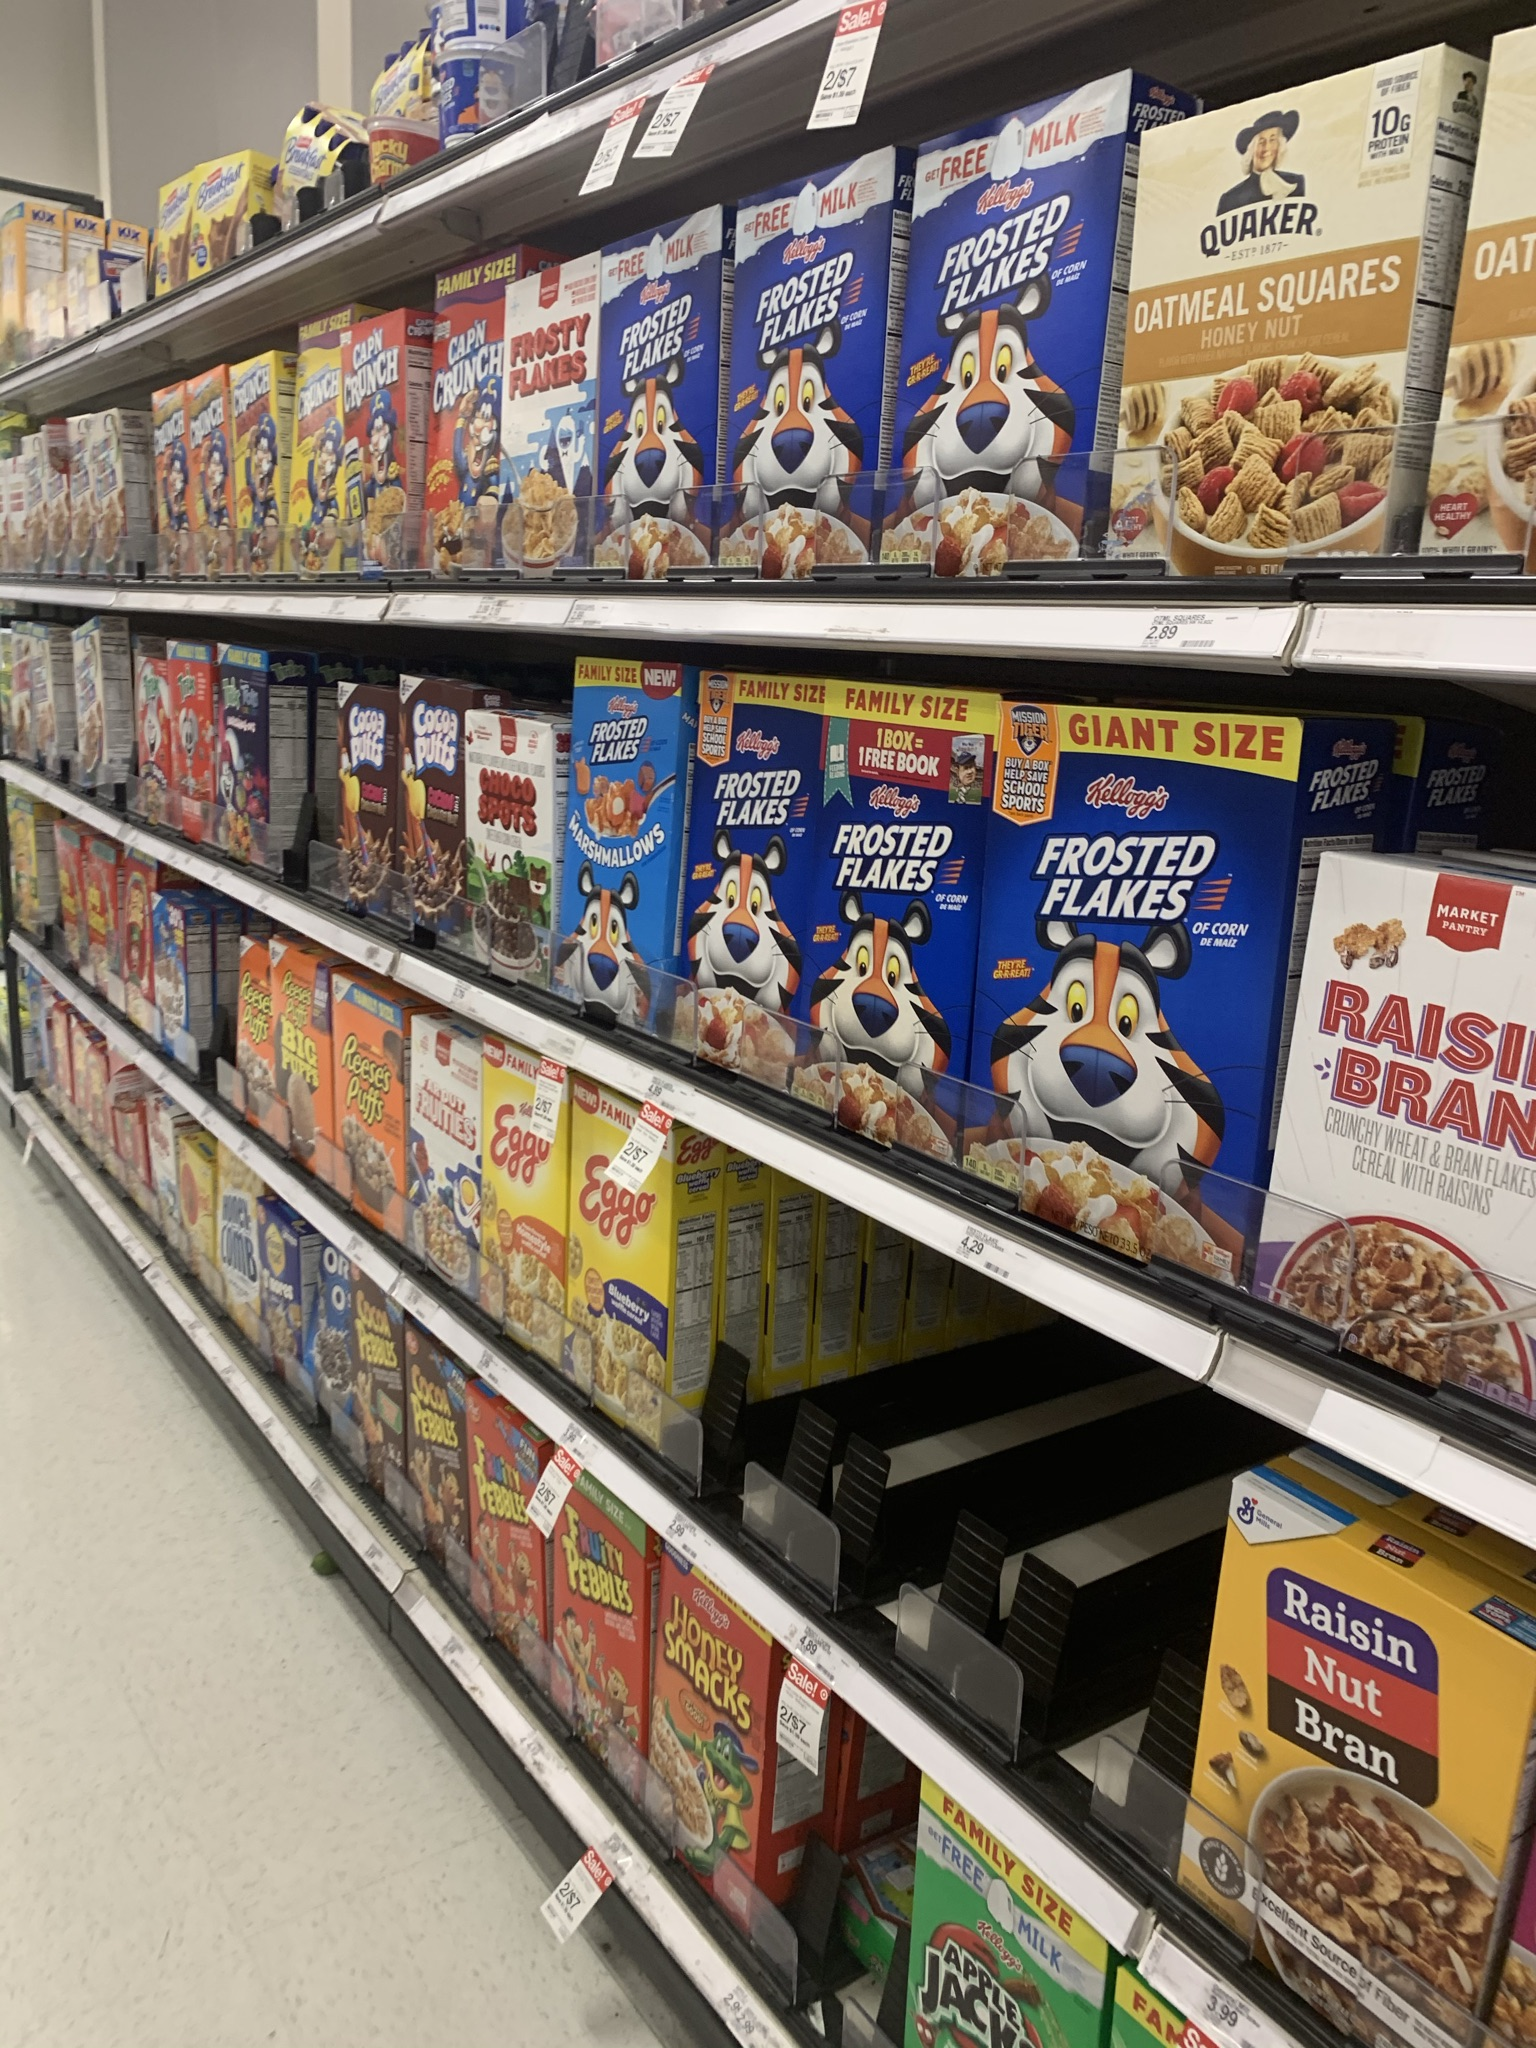cereal: (1000, 701, 1254, 1306), (1233, 1479, 1484, 2045), (886, 77, 1131, 576), (803, 693, 1010, 1121), (728, 147, 895, 581), (679, 672, 829, 1098), (662, 1538, 787, 1951), (913, 1766, 1097, 2048), (571, 655, 691, 1059), (615, 198, 729, 581), (552, 1121, 670, 1426), (550, 1461, 642, 1819), (423, 269, 523, 597), (508, 260, 600, 593), (465, 1039, 545, 1398), (457, 708, 553, 1006), (466, 1401, 544, 1730), (399, 1005, 476, 1309), (319, 977, 403, 1255), (342, 331, 428, 601), (395, 676, 471, 966), (324, 677, 395, 947), (269, 939, 332, 1234), (349, 1279, 416, 1551), (286, 319, 353, 590), (223, 364, 297, 600), (405, 1340, 465, 1622), (211, 642, 276, 871), (157, 635, 211, 860), (139, 389, 194, 598), (231, 927, 278, 1166), (142, 889, 197, 1092), (184, 369, 231, 600)
